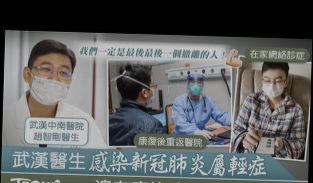with_mask: (27, 57, 71, 105), (260, 73, 285, 99), (187, 77, 203, 94), (145, 81, 156, 105)
